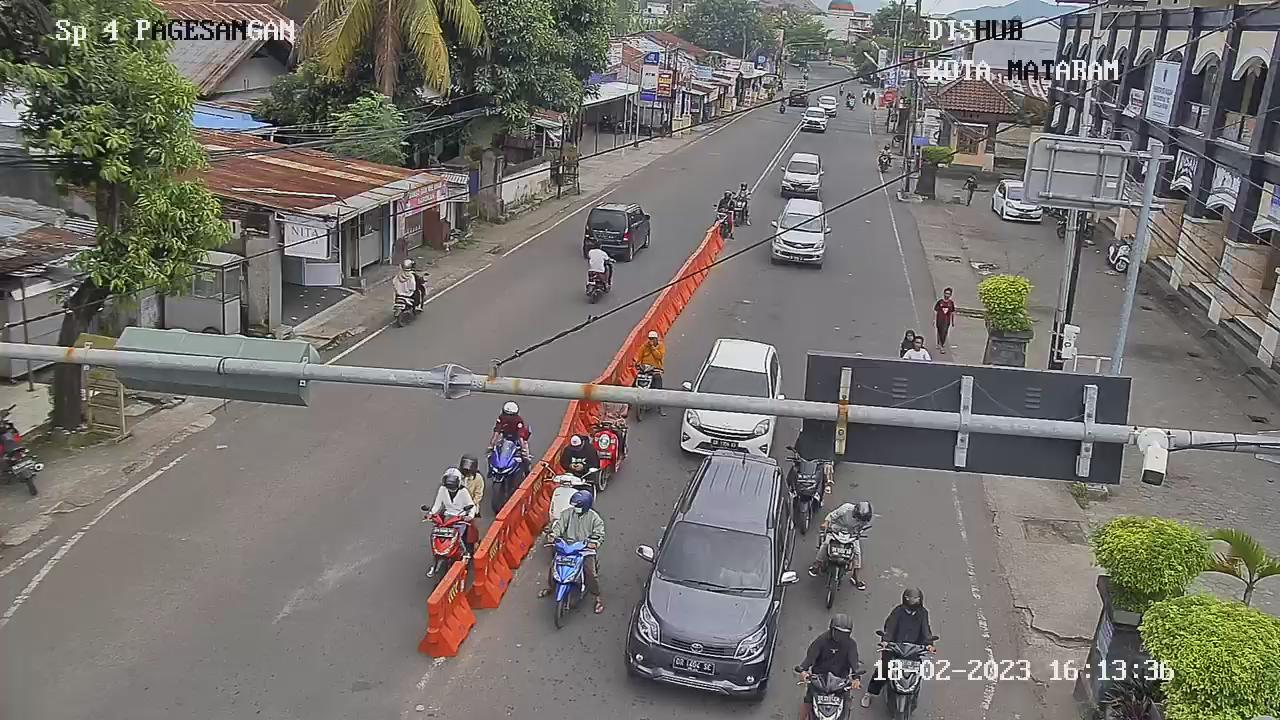car: (614, 442, 799, 705), (675, 333, 785, 463), (580, 197, 654, 264), (772, 194, 829, 270), (782, 155, 824, 201), (800, 104, 828, 134)
motorcycle: (535, 526, 606, 627), (807, 513, 871, 595), (778, 446, 834, 535), (789, 660, 871, 720), (417, 504, 473, 586), (484, 432, 530, 508), (585, 415, 629, 488), (710, 202, 738, 242), (727, 190, 750, 230)
person: (543, 493, 608, 610), (876, 584, 941, 660), (799, 610, 863, 685), (425, 453, 480, 525), (820, 494, 877, 551), (484, 401, 534, 455), (559, 431, 602, 482), (930, 283, 959, 341), (389, 253, 425, 298), (633, 328, 665, 371), (579, 237, 615, 275), (901, 332, 932, 367), (730, 179, 750, 203), (714, 189, 734, 211), (876, 138, 895, 160)
